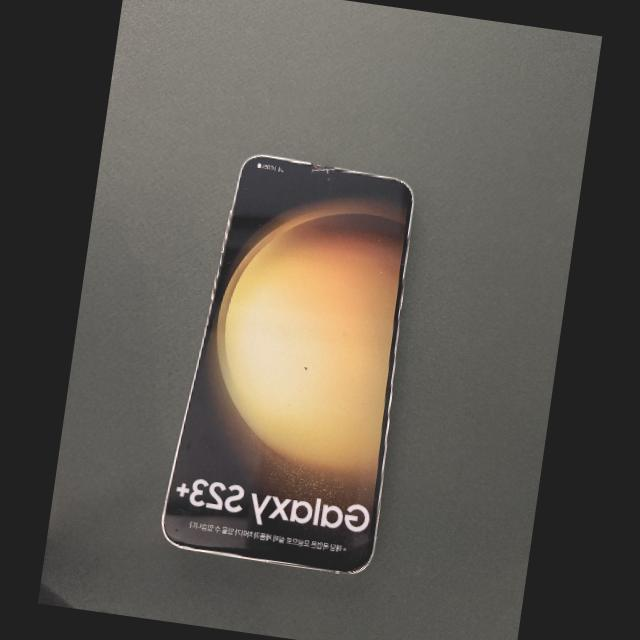lens: (326, 177, 331, 181)
phone: (162, 155, 413, 573)
sticker: (311, 162, 336, 174)
